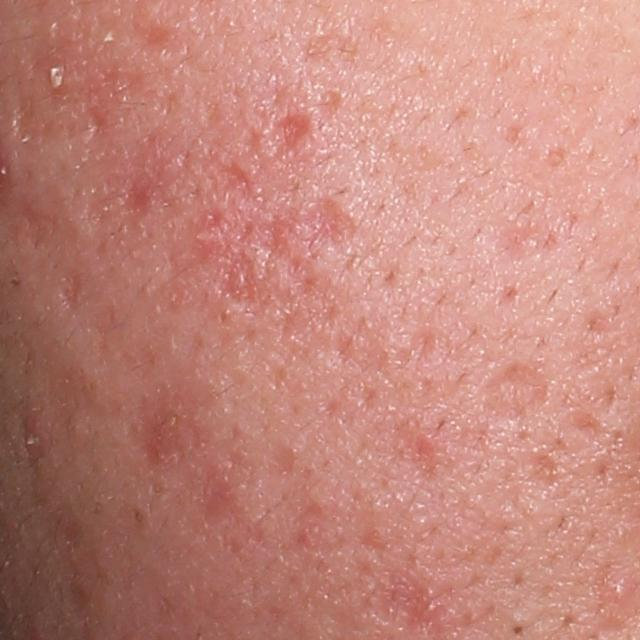atrophic_scar: (483, 362, 550, 417), (555, 405, 616, 458), (261, 112, 316, 166), (297, 200, 357, 249), (11, 81, 53, 143), (117, 168, 161, 218), (216, 252, 258, 302), (520, 448, 563, 493), (59, 270, 91, 312), (314, 89, 346, 126)
papule: (601, 574, 630, 603)
